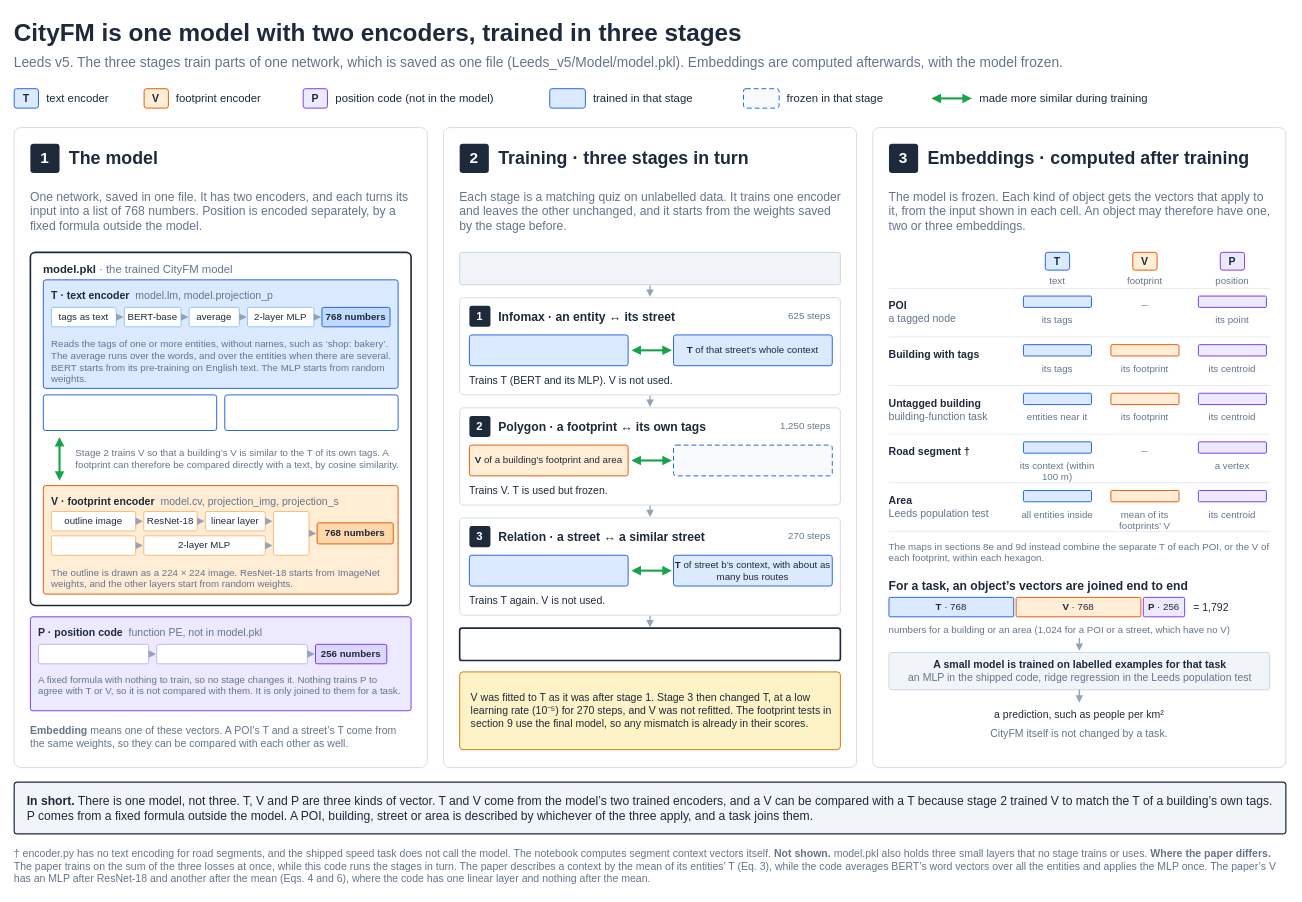
Image size: 1302x902. Some labels were removed from this diagram. The centre of each missing label's shape, as x and y in pixels:
"floor area" belongs at point (93, 545).
"latitude and longitude" belongs at point (93, 653).
"mean" belongs at point (290, 533).
"one entity → its T a POI, or a building’s tags" belongs at point (129, 412).
"Saved as model.pkl T as stage 3 left it, V as stage 2 left it" belongs at point (649, 644).
"several entities → one T a street’s context, or an area" belongs at point (311, 412).
"sin and cos at 64 frequencies" belongs at point (231, 653).
"Start BERT-base and ImageNet ResNet-18, with new MLP and linear layers" belongs at point (649, 268).
"T of one entity on a street" belongs at point (548, 350).
"T of street a’s context" belongs at point (548, 570).
"T of the same building’s tags" belongs at point (752, 460).
